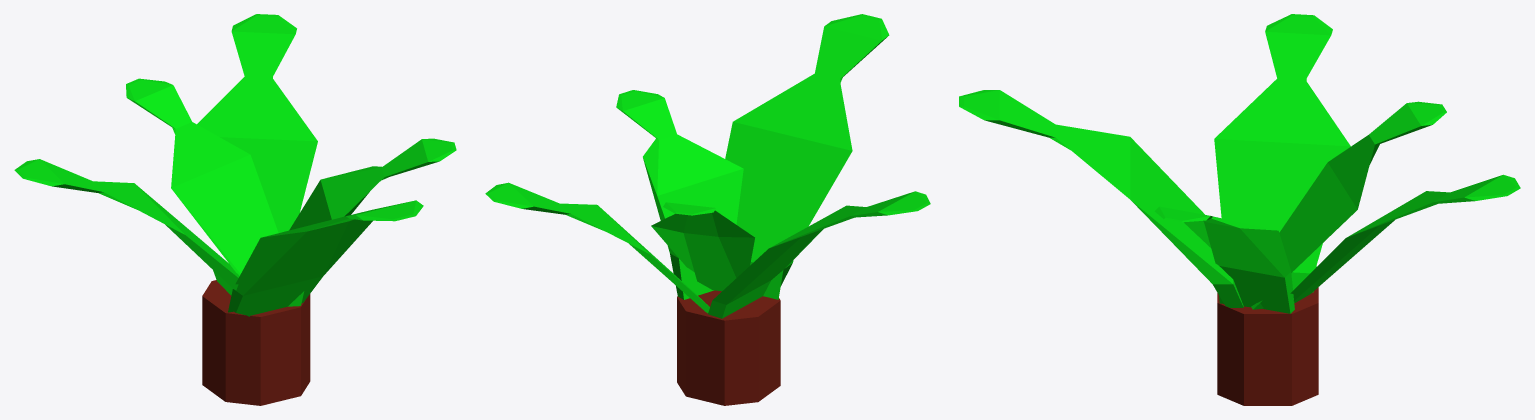
The model's file is Samambaia.fbx.
3 views of the same model, side by side, from view 1: azimuth 30°, elevation 25°; view 2: azimuth 150°, elevation 25°; view 3: azimuth 270°, elevation 25° (orthographic). The views are drawn at different scales.
Visible parts, largest first — view 1: Cube; view 2: Cube; view 3: Cube.
Part boxes in pixels (x1,y1,x2,y2): Cube: [14, 14, 456, 405]; Cube: [485, 14, 930, 405]; Cube: [959, 14, 1520, 405].
Size of the model in its own units: 941 by 651 by 1172.
